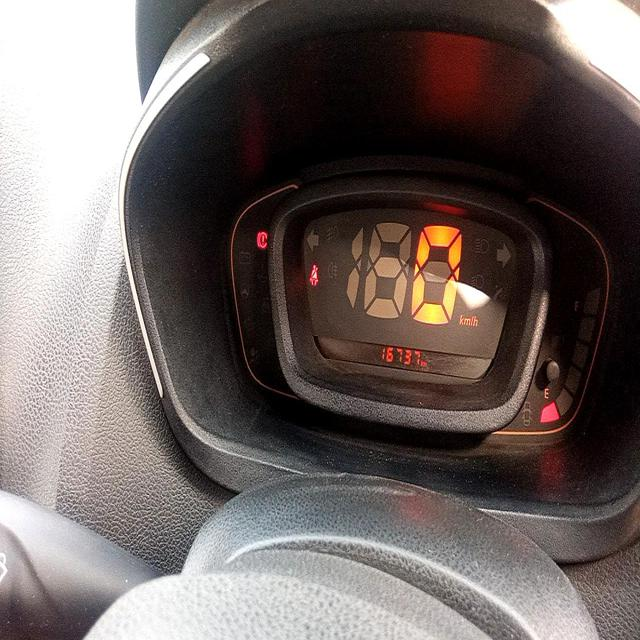odometer: (380, 344, 420, 367)
